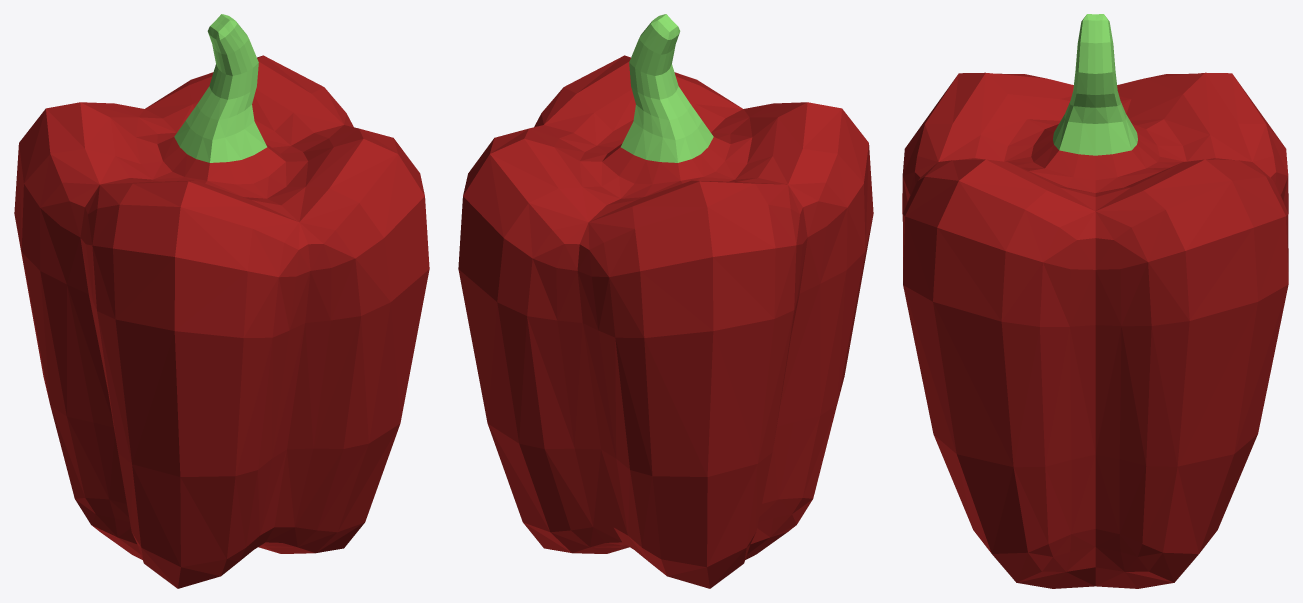
File: Pepper_Red.obj
3 renders of one model, left to right at view 1: azimuth 30°, elevation 25°; view 2: azimuth 150°, elevation 25°; view 3: azimuth 270°, elevation 25°, orthographic.
Visible parts, largest first — view 1: Pepper_Red_DarkRed, Pepper_Red_PaleGreen; view 2: Pepper_Red_DarkRed, Pepper_Red_PaleGreen; view 3: Pepper_Red_DarkRed, Pepper_Red_PaleGreen.
Part boxes in pixels (x1,y1,x2,y2): Pepper_Red_DarkRed: (14, 55, 429, 588); Pepper_Red_PaleGreen: (174, 14, 266, 162); Pepper_Red_DarkRed: (458, 55, 873, 588); Pepper_Red_PaleGreen: (621, 14, 713, 162); Pepper_Red_DarkRed: (902, 72, 1288, 588); Pepper_Red_PaleGreen: (1053, 14, 1137, 155).
Size of the model in its own units: 0.674 by 1.11 by 0.7118.
